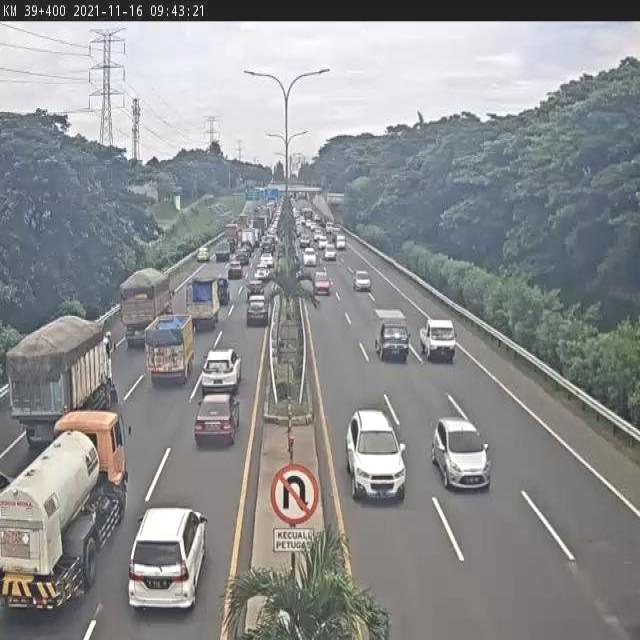Car: (130, 498, 208, 610), (348, 406, 409, 511), (433, 409, 494, 495), (196, 395, 237, 446), (202, 344, 244, 387), (247, 295, 270, 326), (354, 269, 375, 297), (314, 271, 330, 297), (245, 279, 264, 297), (303, 247, 318, 269), (217, 280, 229, 306), (322, 243, 337, 262), (254, 264, 271, 278), (228, 260, 241, 278), (259, 253, 274, 266), (236, 254, 252, 266), (196, 247, 208, 260), (302, 235, 312, 247)
Truck: (1, 412, 131, 613), (6, 313, 122, 440), (121, 266, 179, 346), (143, 313, 196, 388), (182, 274, 218, 330), (372, 308, 410, 361), (420, 318, 458, 361), (216, 238, 230, 261), (332, 231, 345, 250)
